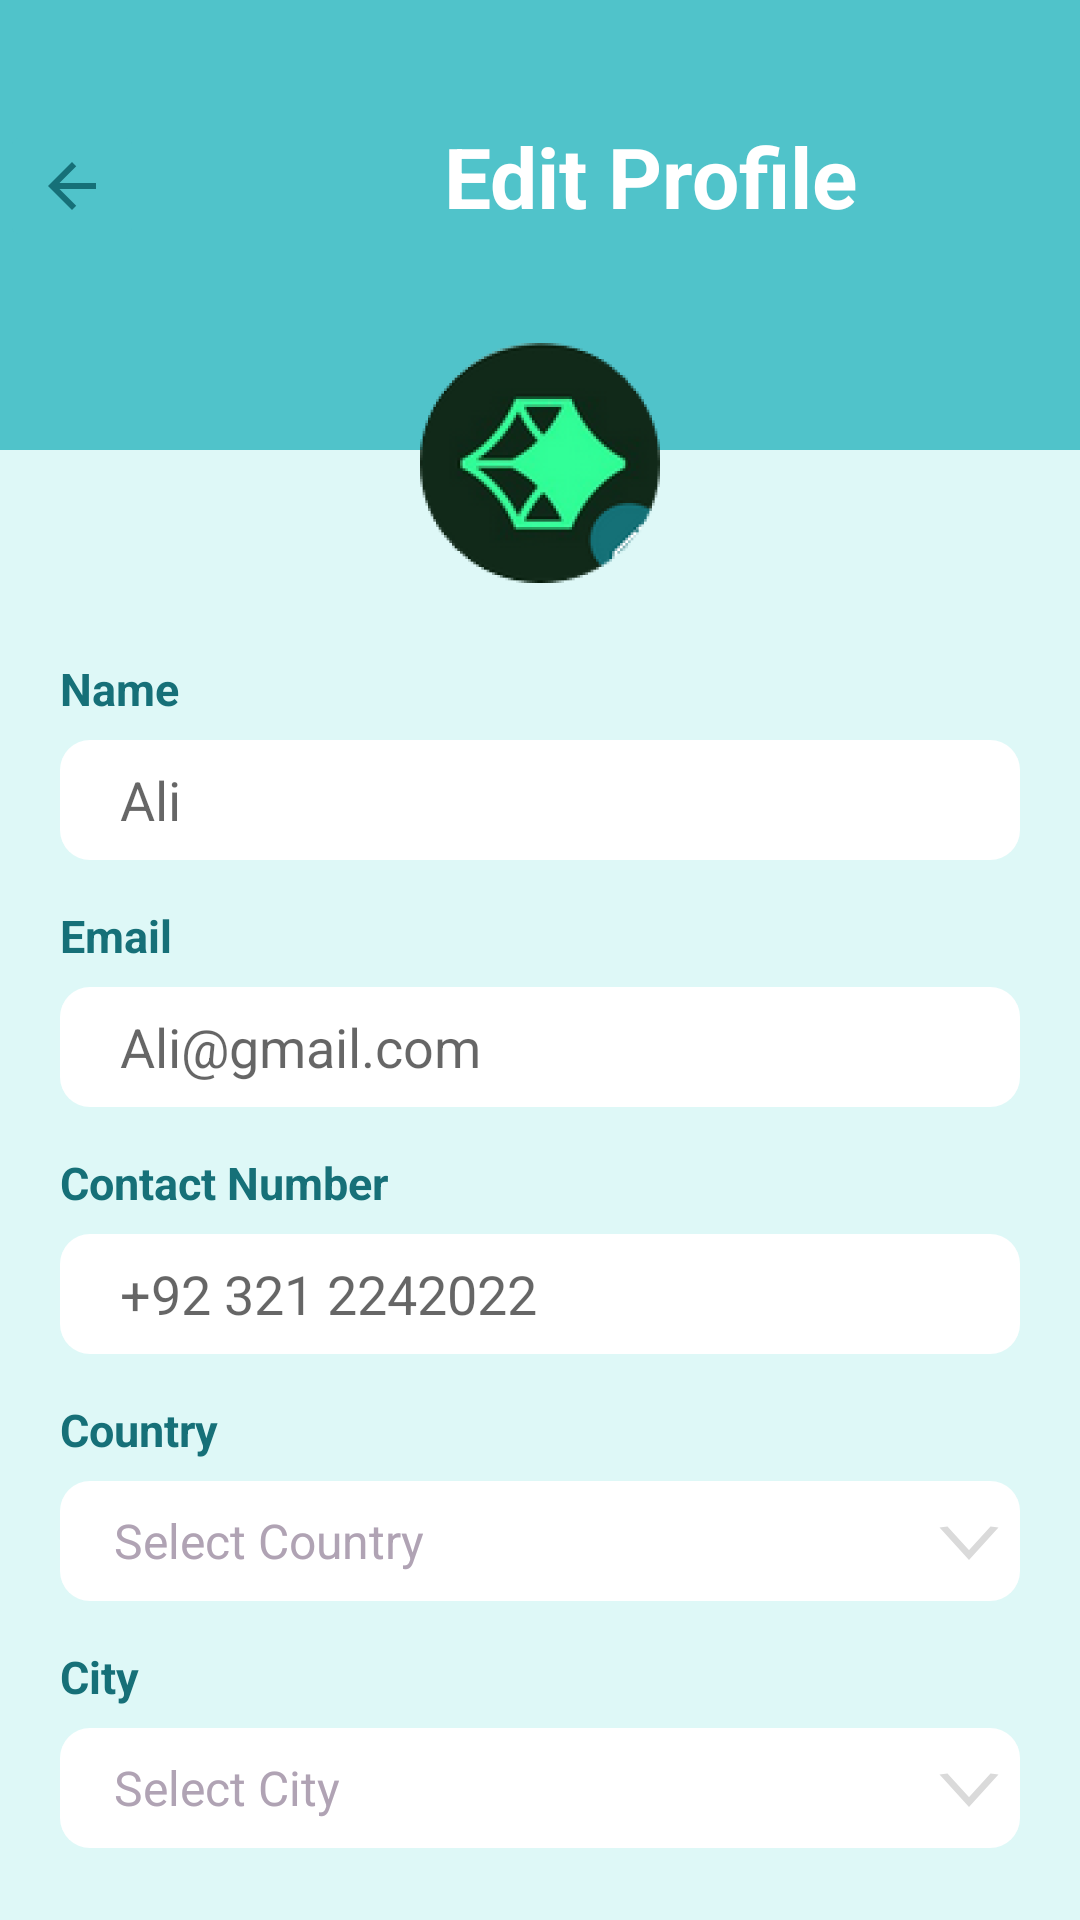

Screen size 1080x1920. Icon name, then its center in pixels as [x,y]:
arrow back: [72,186]
